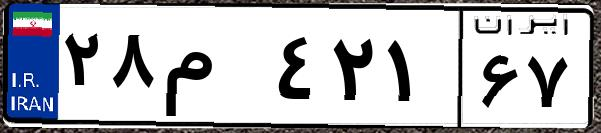1: (385, 28, 445, 110)
2: (330, 28, 385, 110), (57, 26, 110, 100)
4: (270, 28, 330, 110)
6: (475, 38, 525, 113)
7: (525, 38, 570, 115)
8: (110, 28, 158, 98)
م: (158, 20, 270, 120)
